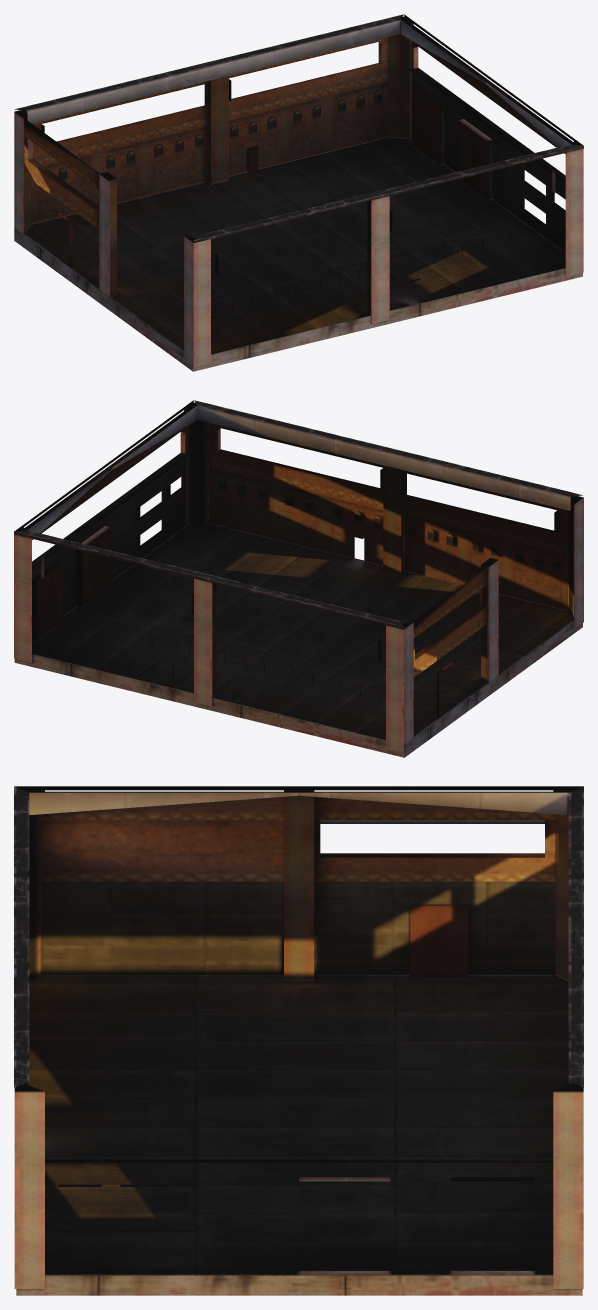
File: factory_interior_raw.glb
3 views of the same model, one above another, from view 1: azimuth 30°, elevation 25°; view 2: azimuth 150°, elevation 25°; view 3: azimuth 270°, elevation 25° (orthographic). The views are drawn at different scales.
Visible parts, largest first — view 1: Factory_Interior_Baked; view 2: Factory_Interior_Baked; view 3: Factory_Interior_Baked.
Boxes of the visible parts, x1,y1,x2,y2 form: Factory_Interior_Baked: [14, 14, 583, 371]; Factory_Interior_Baked: [14, 400, 583, 757]; Factory_Interior_Baked: [14, 786, 583, 1295].
Size of the model in its own units: 45.29 by 14.56 by 36.15.
1 material, 1 textured.
